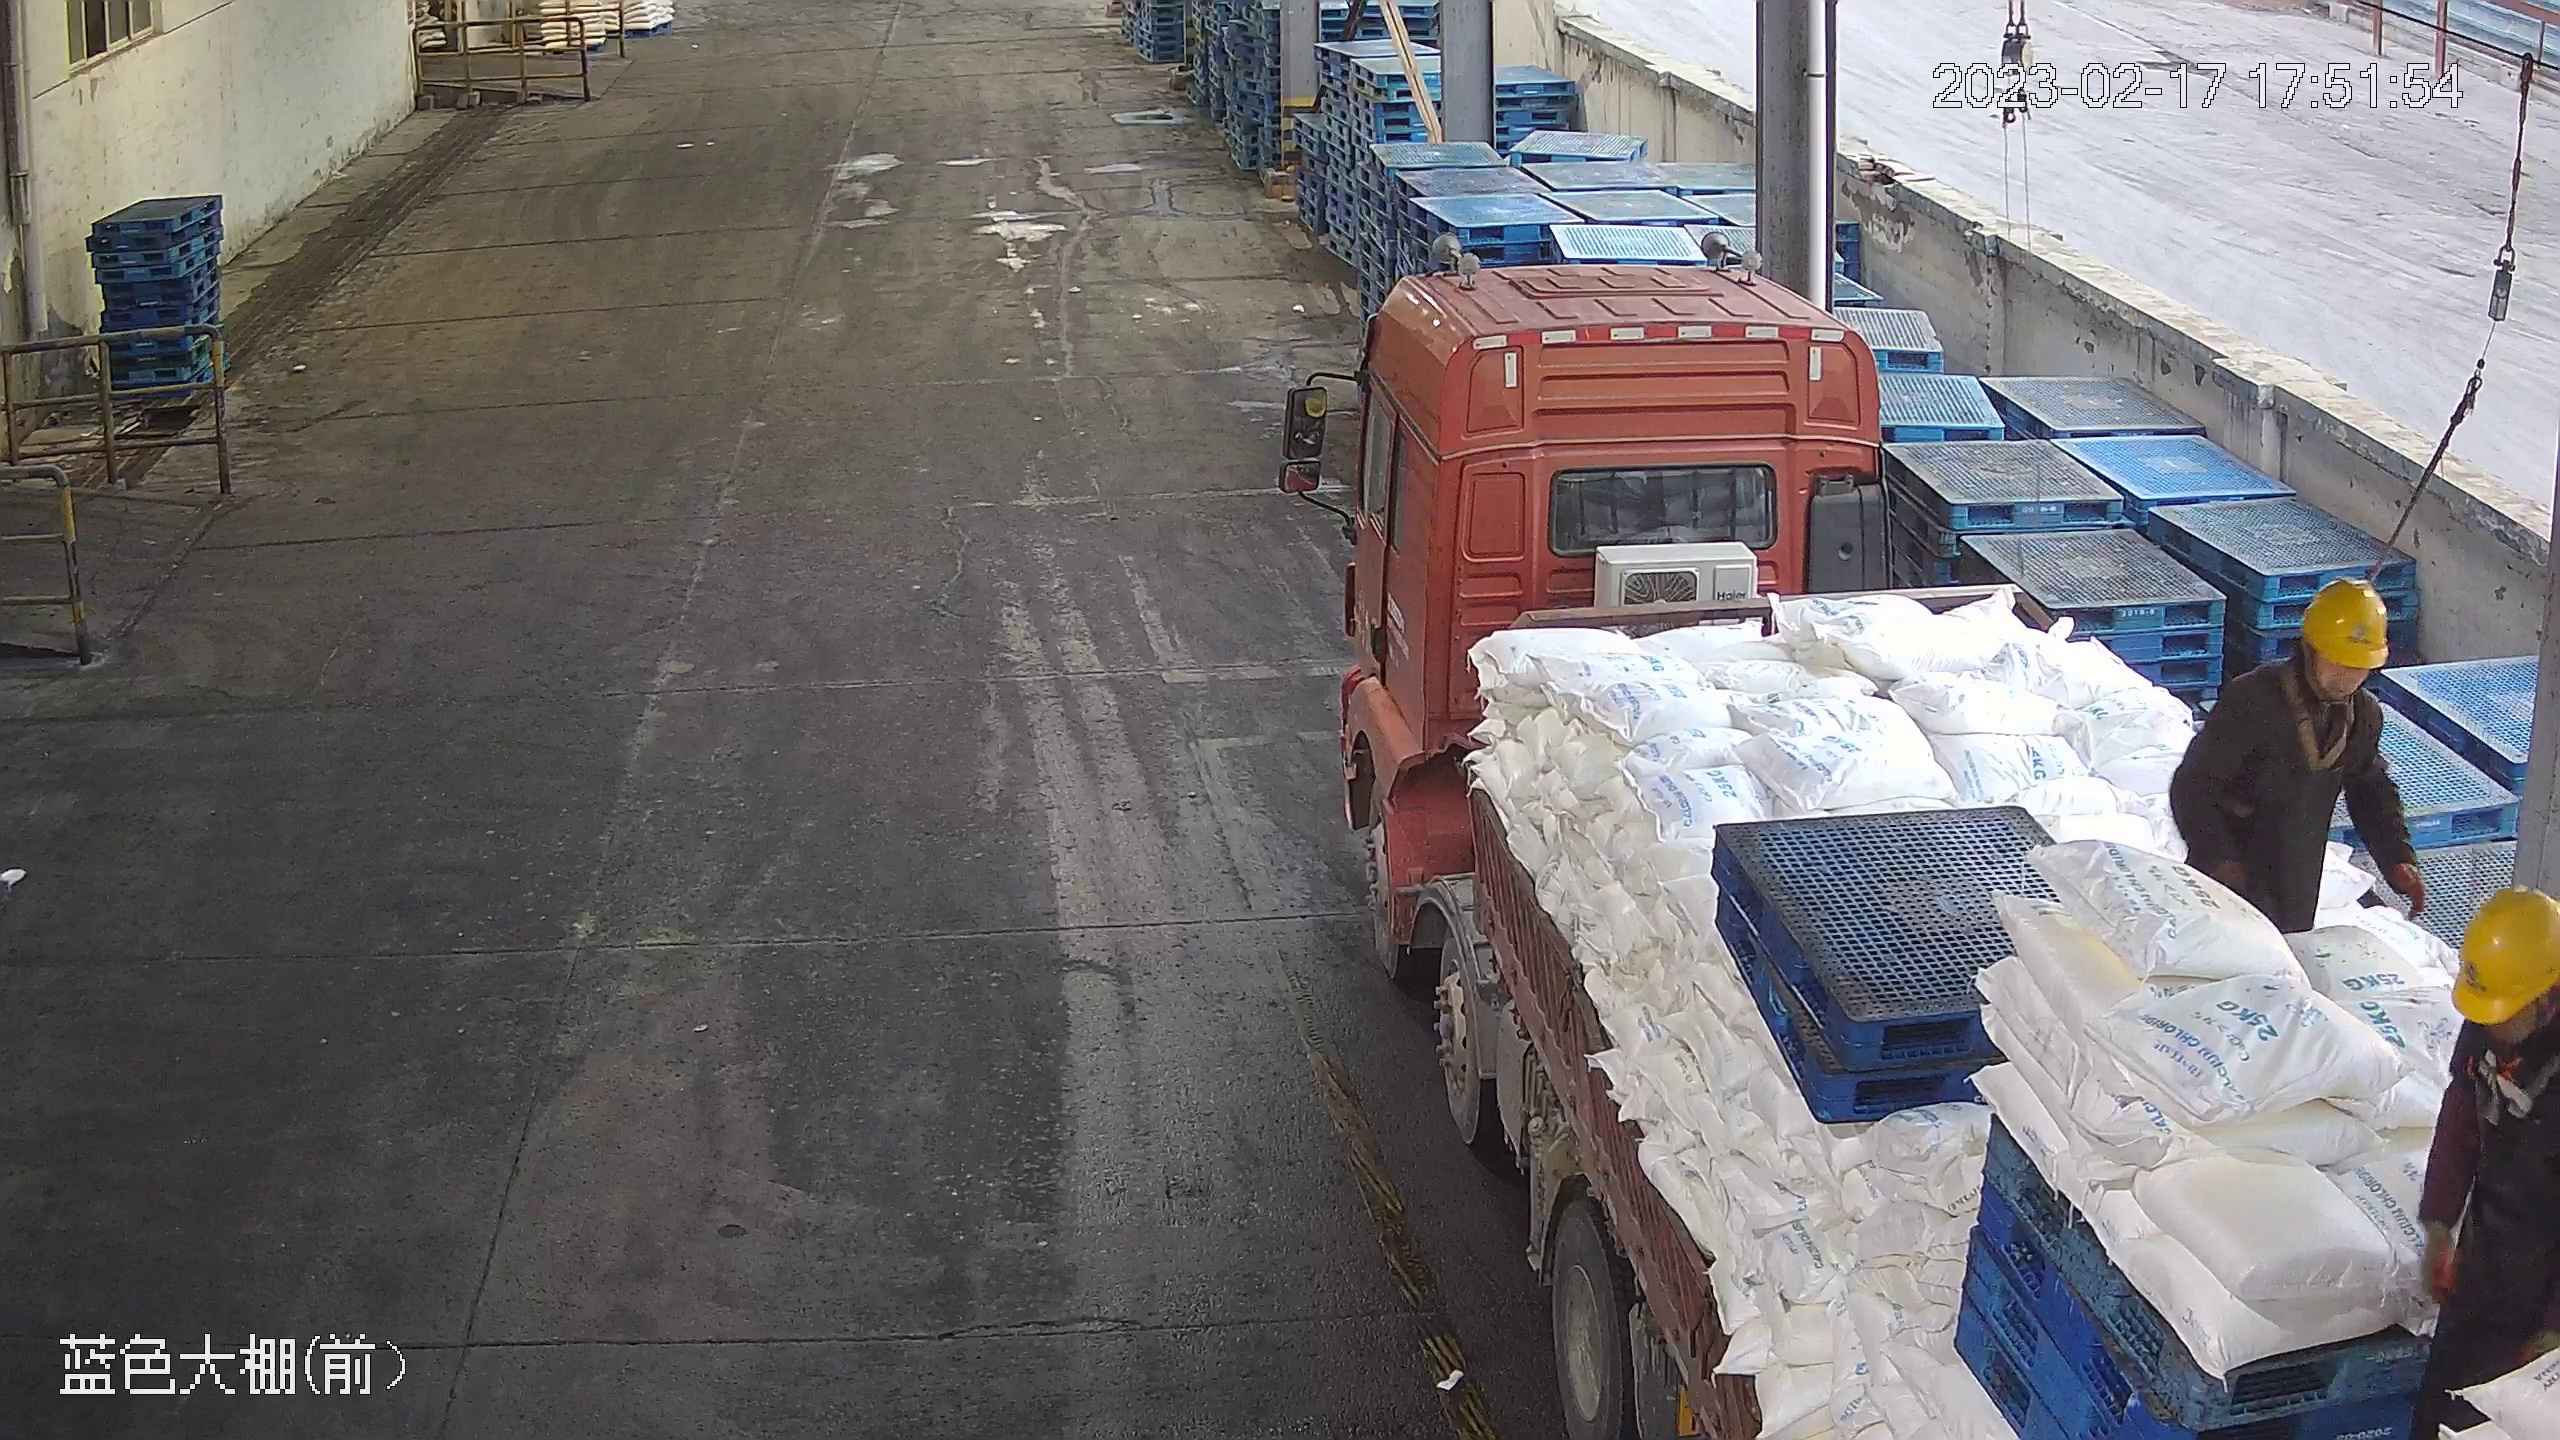belt: (2263, 662, 2381, 771), (2477, 980, 2560, 1115)
head: (2225, 575, 2395, 752), (2441, 886, 2560, 1121)
helmet: (2442, 884, 2559, 1023), (2299, 576, 2392, 669)
people: (2168, 575, 2424, 941), (2412, 884, 2560, 1430)
truck: (1281, 233, 2556, 1440)
